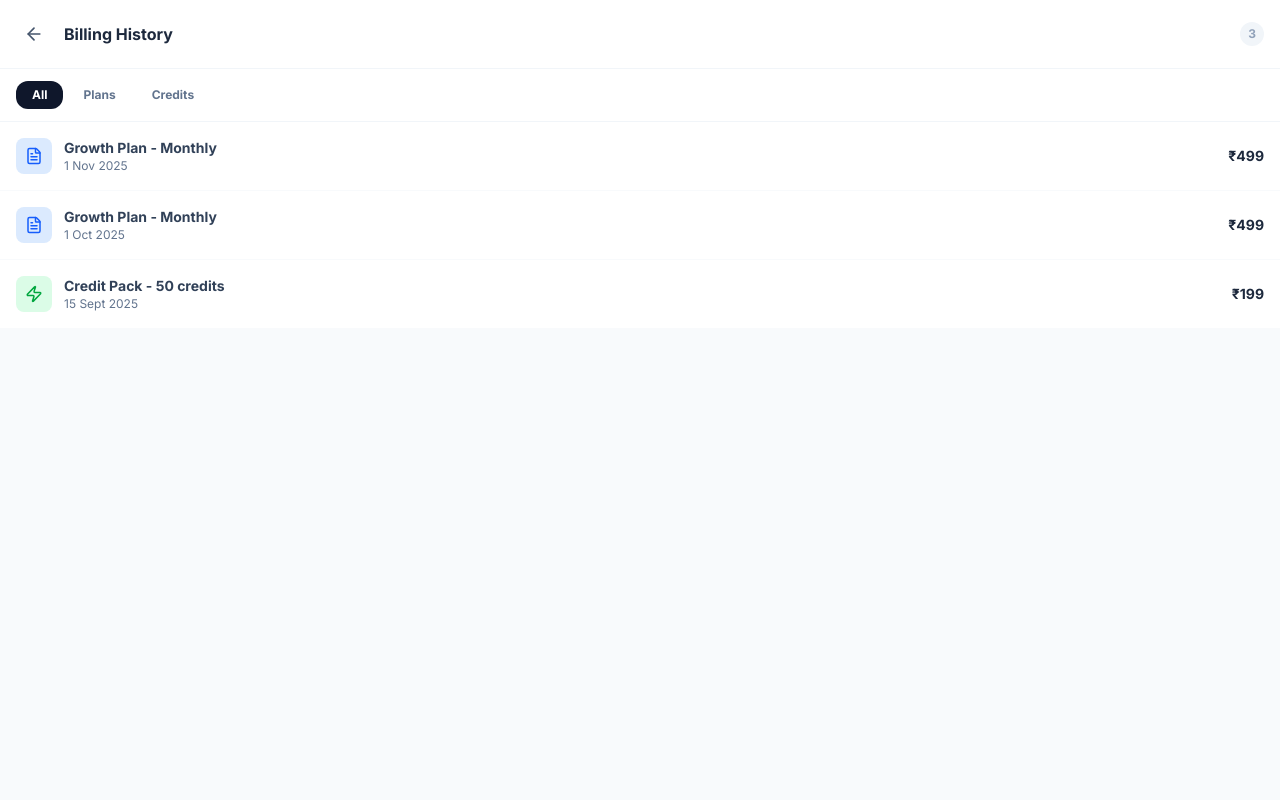
it: InvoiceHistoryPanel › filters to subscriptions only
Click the button "Plans" at (100, 95), box [68,81,132,109]
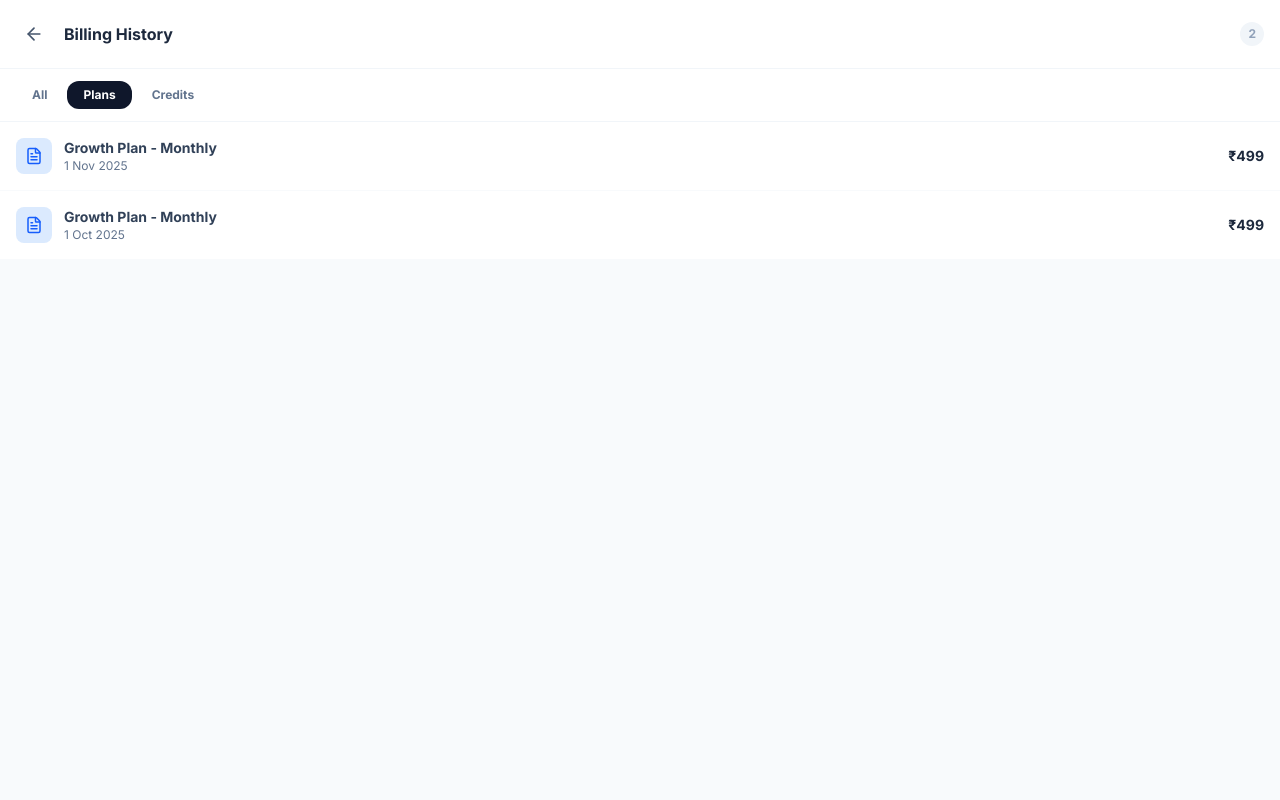
Check: the text "2" is shown, box [1240,22,1264,46]
Check: the text "Growth Plan - Monthly" is shown 2 times, box [64,138,217,158]; [64,207,217,227]
Check: the text "Credit Pack - 50 credits" is gone
